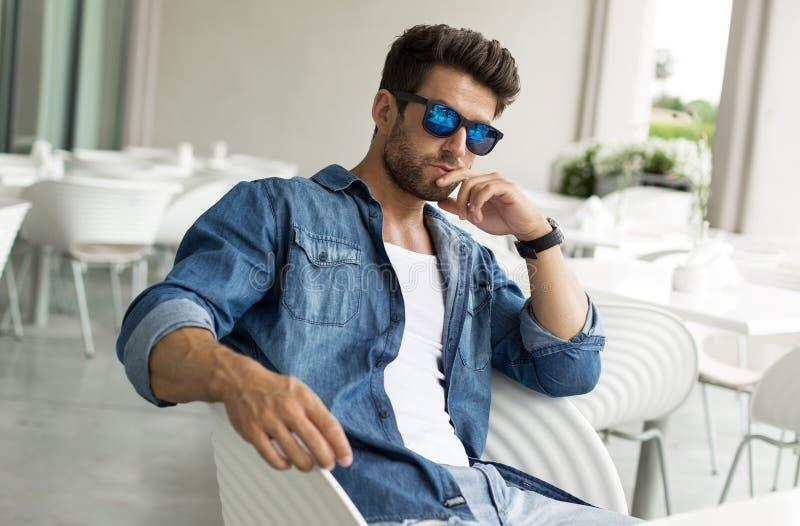sunglasses: (413, 89, 507, 166)
